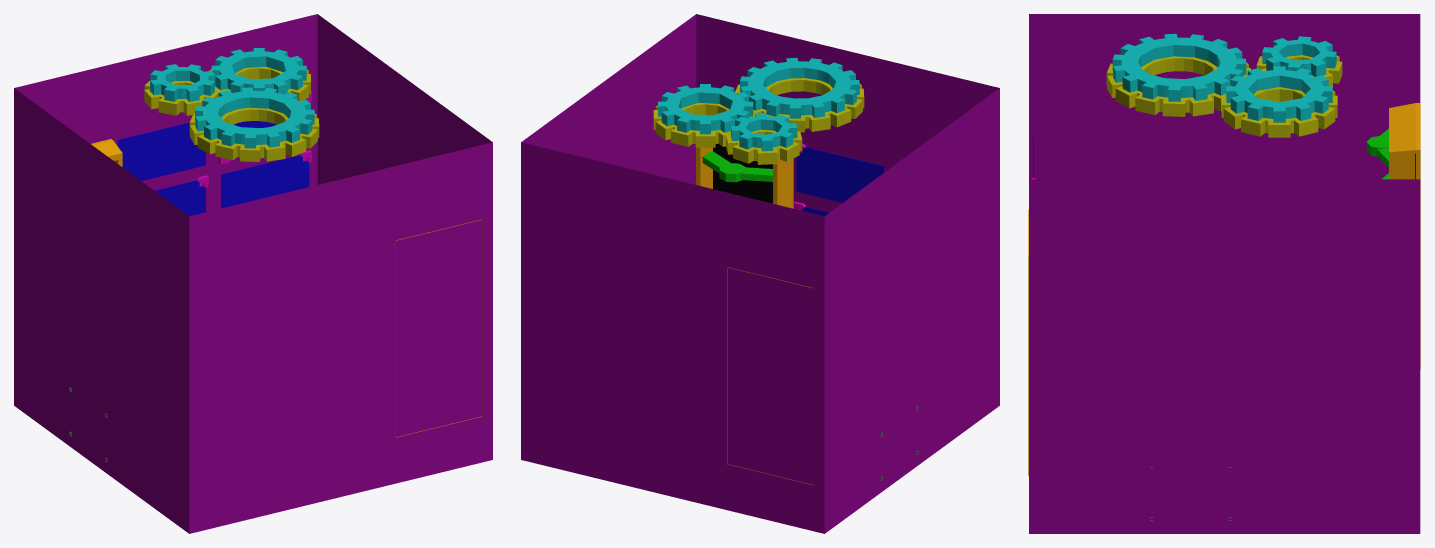
File: MaintenanceRoom.FBX
3 views of the same model, side by side, from view 1: azimuth 30°, elevation 25°; view 2: azimuth 150°, elevation 25°; view 3: azimuth 270°, elevation 25° (orthographic). The views are drawn at different scales.
Parts seen in each view (by area): view 1: MaintenanceRoom; view 2: MaintenanceRoom; view 3: MaintenanceRoom.
Part boxes in pixels (x1,y1,x2,y2): MaintenanceRoom: [14, 14, 492, 533]; MaintenanceRoom: [521, 14, 999, 533]; MaintenanceRoom: [1028, 14, 1420, 533].
Bounding box in the file's own units: 197 × 210 × 198.
